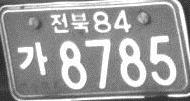4: (112, 8, 132, 33)
5: (149, 33, 177, 86)
7: (83, 37, 112, 88)
8: (118, 37, 147, 88), (58, 40, 87, 89), (92, 10, 111, 35)
가: (16, 41, 48, 75)
전북_O: (49, 12, 89, 33)
